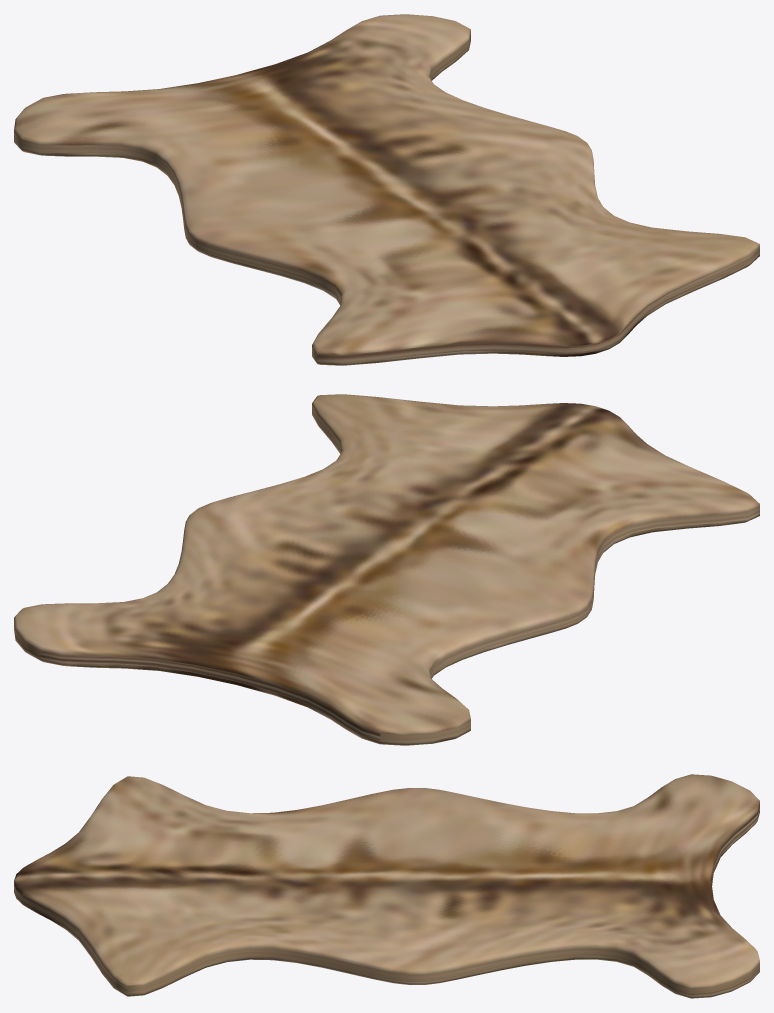
The model's file is leather mesh.fbx.
3 views of the same model, one above another, from view 1: azimuth 30°, elevation 25°; view 2: azimuth 150°, elevation 25°; view 3: azimuth 270°, elevation 25° (orthographic). The views are drawn at different scales.
Parts seen in each view (by area): view 1: pCube1; view 2: pCube1; view 3: pCube1.
Part boxes in pixels (box(x1,y1,x2,y2)): pCube1: box(14, 14, 759, 365); pCube1: box(14, 394, 759, 745); pCube1: box(14, 774, 759, 998).
Size of the model in its own units: 13.81 by 0.7058 by 20.6.
